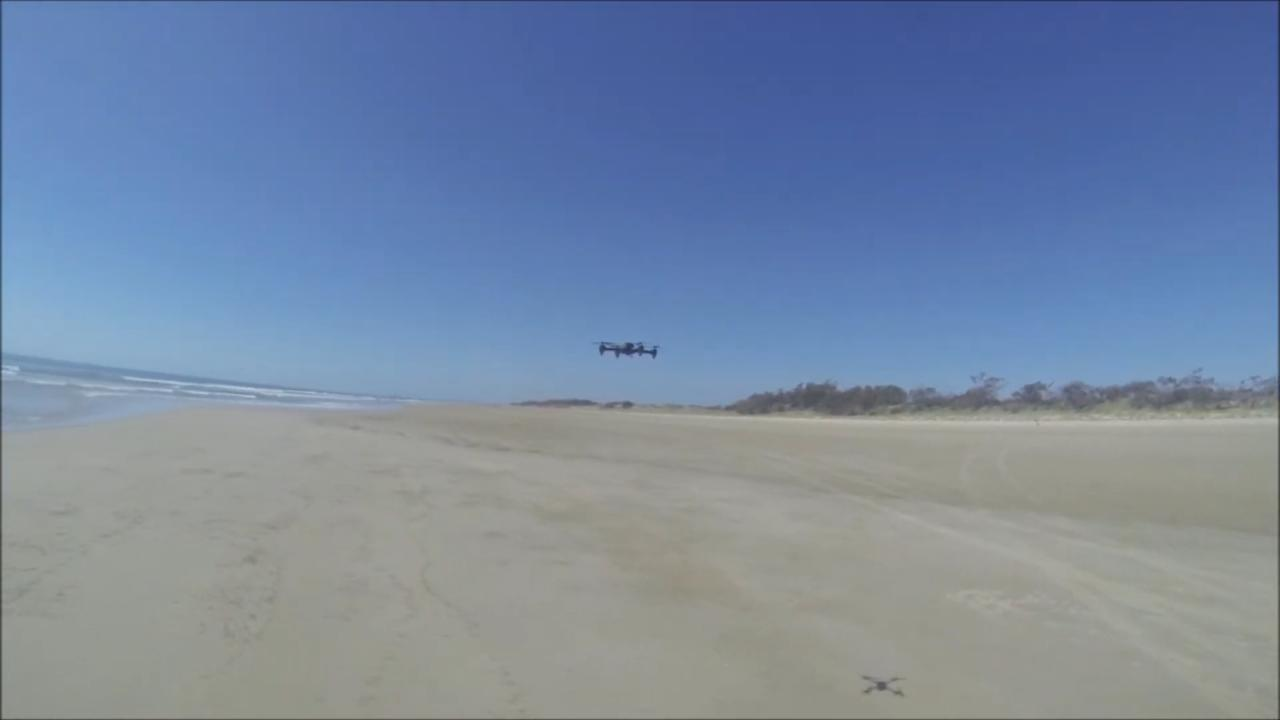Drone: (578, 325, 675, 371)
